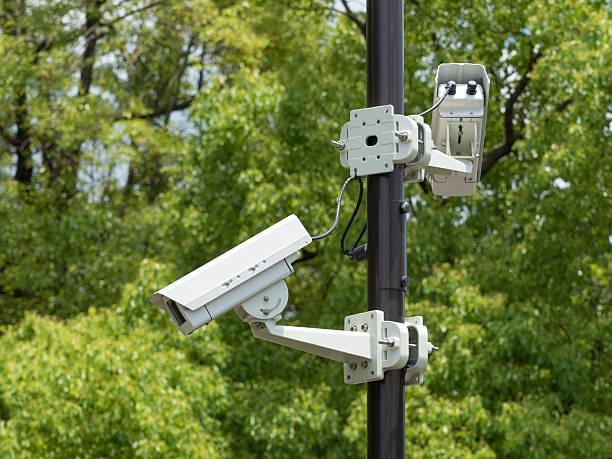camera: (104, 184, 326, 364), (379, 41, 538, 235)
